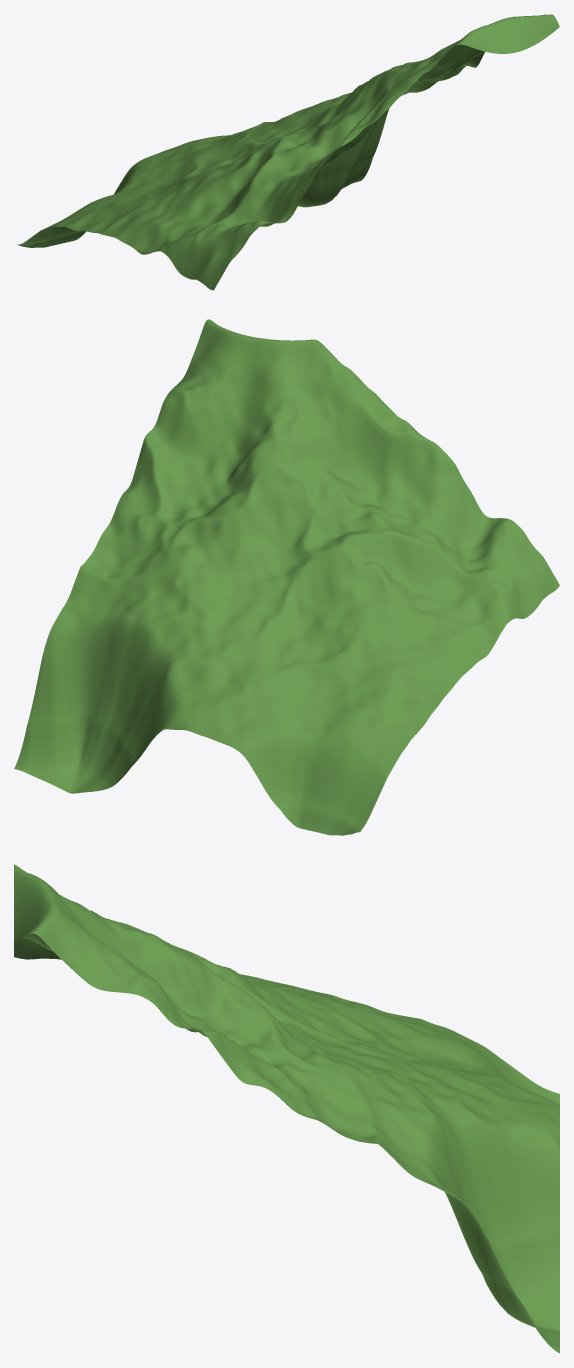
The model's file is SM_Terrain_05_01.fbx.
3 renders of one model, top to bottom at view 1: azimuth 30°, elevation 25°; view 2: azimuth 150°, elevation 25°; view 3: azimuth 270°, elevation 25°, orthographic. The views are drawn at different scales.
Visible parts, largest first — view 1: SM_Terrain_05_01; view 2: SM_Terrain_05_01; view 3: SM_Terrain_05_01.
Boxes of the visible parts, bbox=[...] form: SM_Terrain_05_01: bbox=[17, 14, 559, 290]; SM_Terrain_05_01: bbox=[14, 319, 559, 835]; SM_Terrain_05_01: bbox=[14, 864, 559, 1353].
Bounding box in the file's own units: 384 × 338 × 384.
